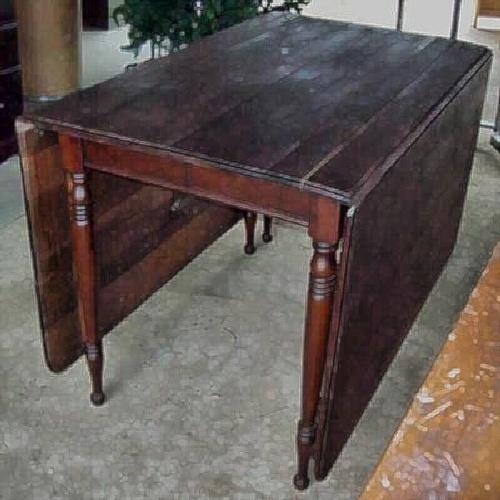table: (91, 14, 465, 421)
